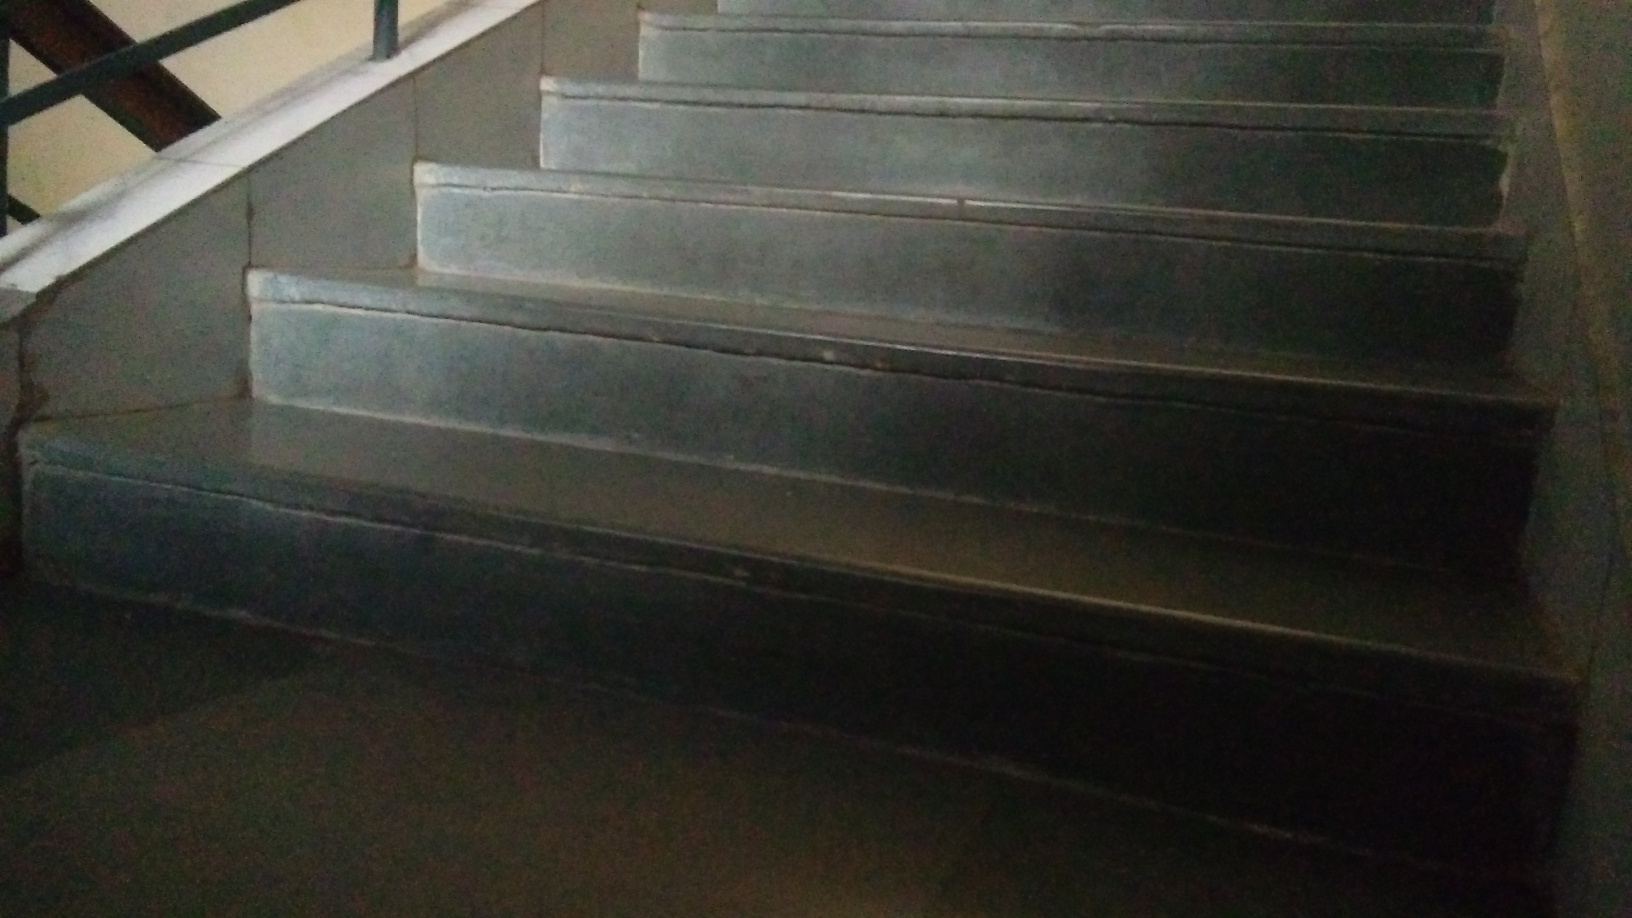stairs_up: (16, 10, 1528, 706)
